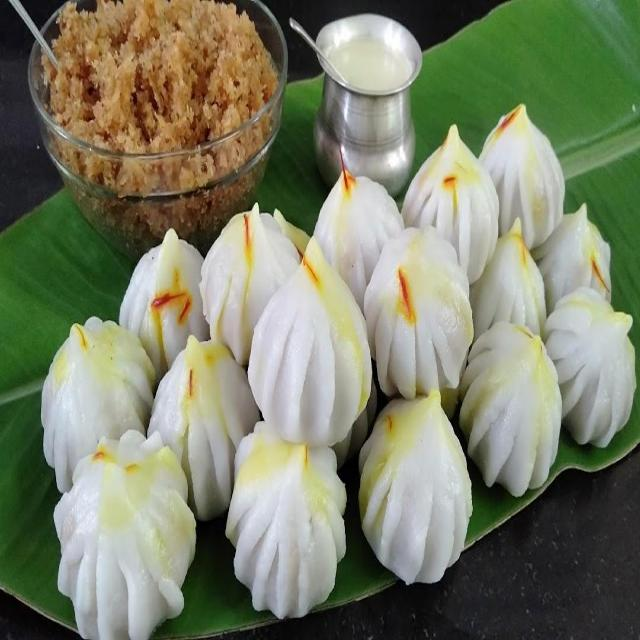modak: (52, 421, 191, 640), (257, 234, 364, 436), (241, 438, 347, 622), (366, 398, 472, 582), (157, 328, 258, 514), (364, 221, 466, 403), (33, 315, 154, 461), (470, 86, 574, 254), (395, 126, 497, 287), (208, 197, 300, 353), (136, 226, 222, 371), (469, 219, 551, 366), (318, 170, 402, 312)
